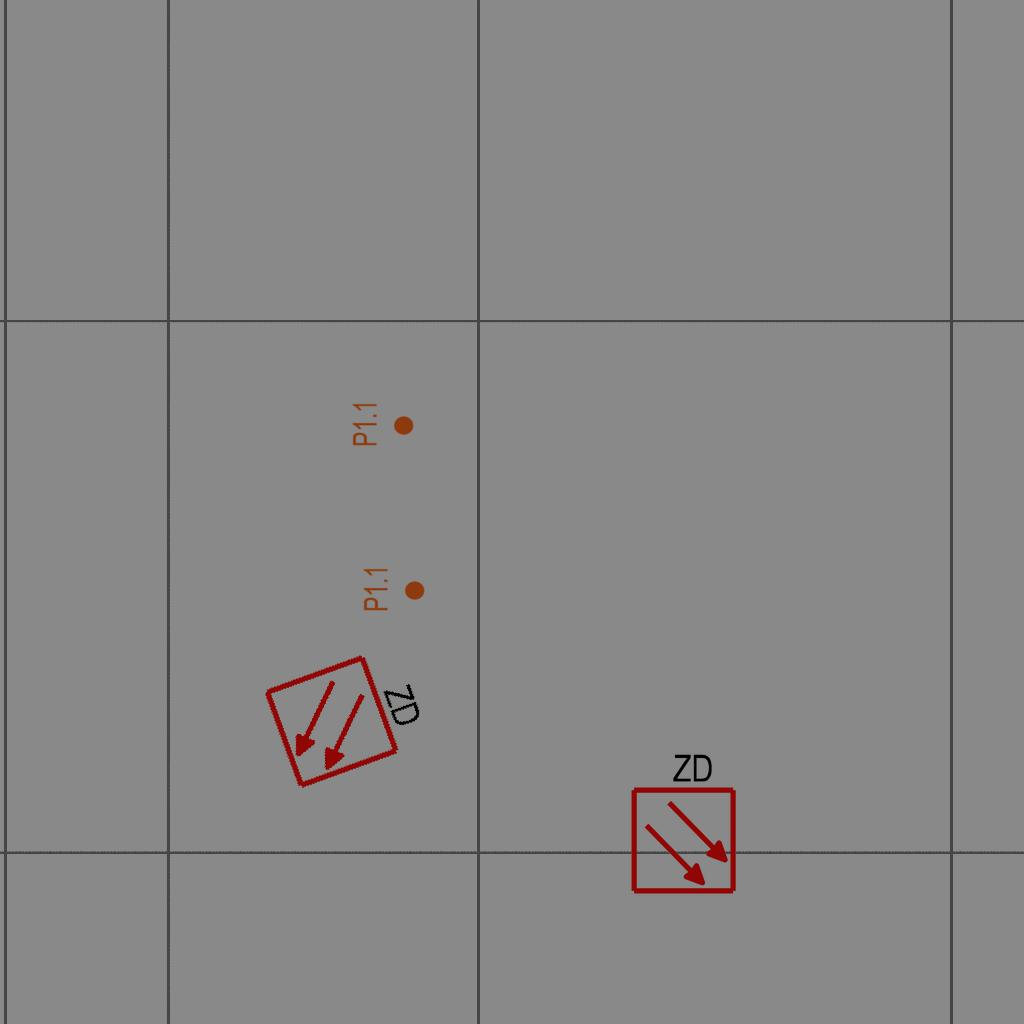Downlight_LED_Einbauleuchten_Flur: (351, 401, 415, 447), (362, 566, 426, 612)
ZD_Melder_in_Zwischendecke_mit_Revisionsoeffnung_mind_40_x_40_cm: (259, 634, 439, 793), (625, 747, 739, 896)
